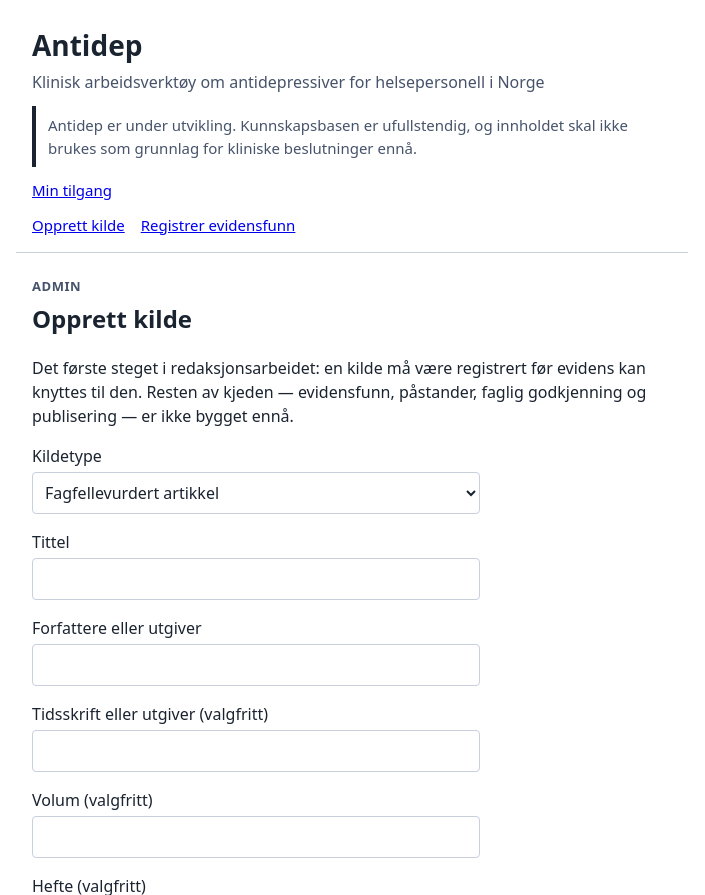
Test: Opprett kilde — publiseringsdato › bare år: brukeren skriver 2000, databasen får 2000-01-01
Type "Testkilde fra skjema" into the field labelled "Tittel". click: (256, 579)
box: [32,558,480,600]
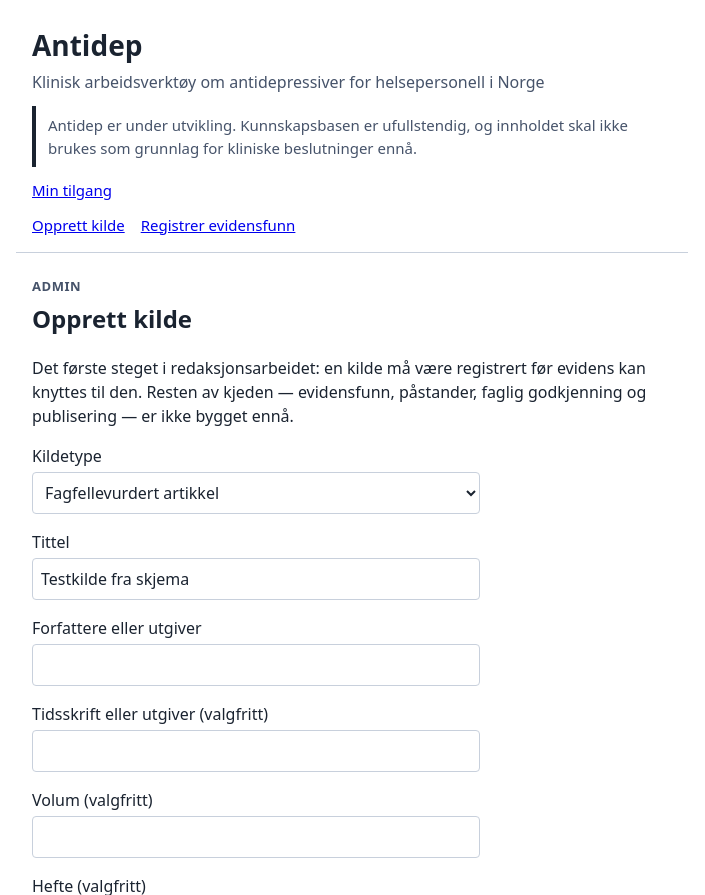
Type "Testforfatter" into the field labelled "Forfattere eller utgiver". click: (256, 665)
box: [32,644,480,686]
(page scrolled)
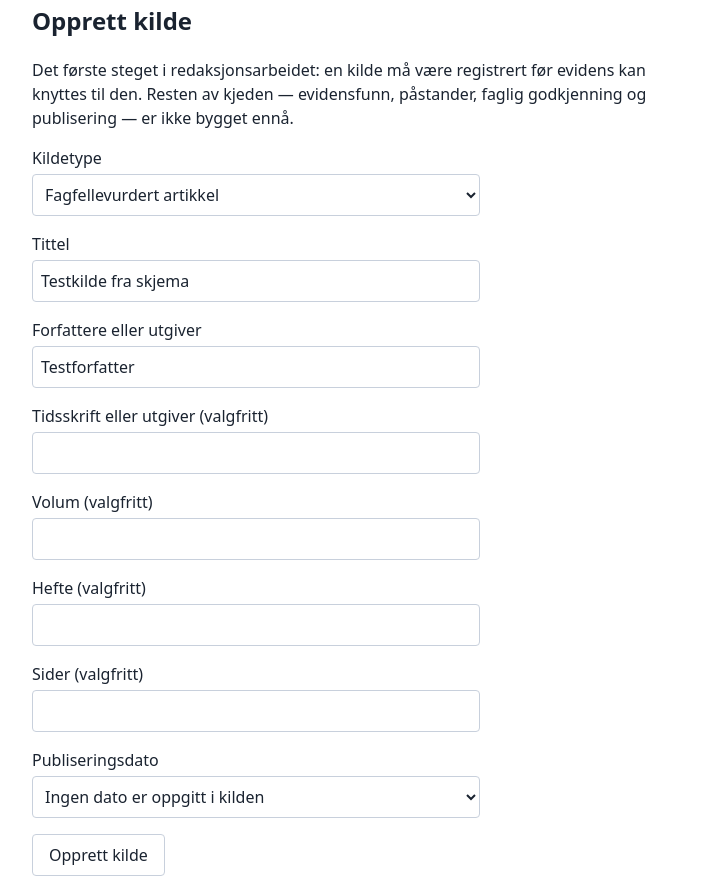
Select "Bare året er kjent" in the dropdown labelled "Publiseringsdato". click: (256, 797)
box: [32,776,480,818]
(page scrolled)
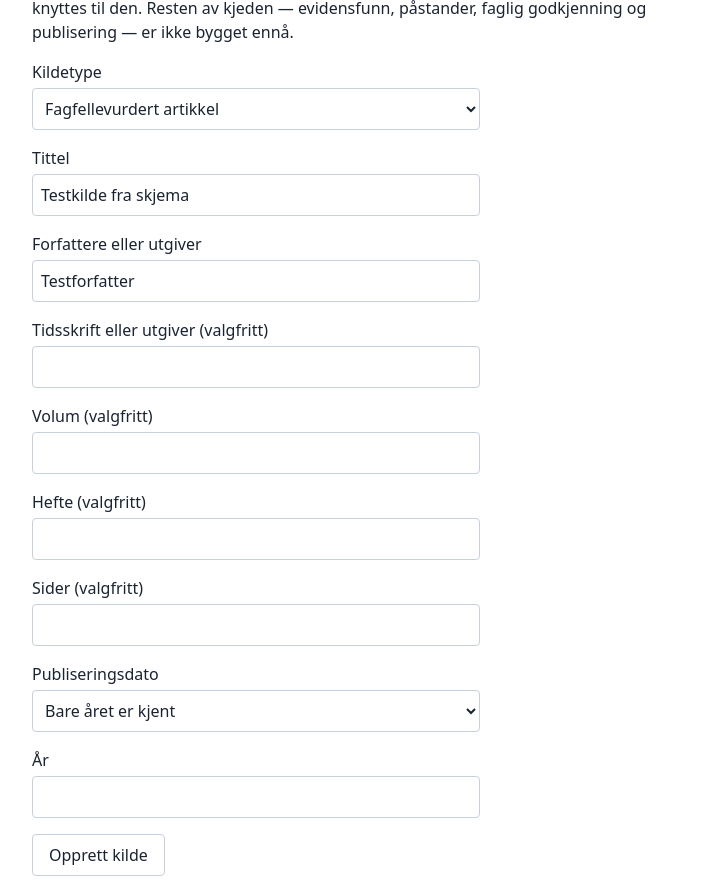
Type "2000" into the number field labelled "År". click: (256, 797)
box: [32,776,480,818]
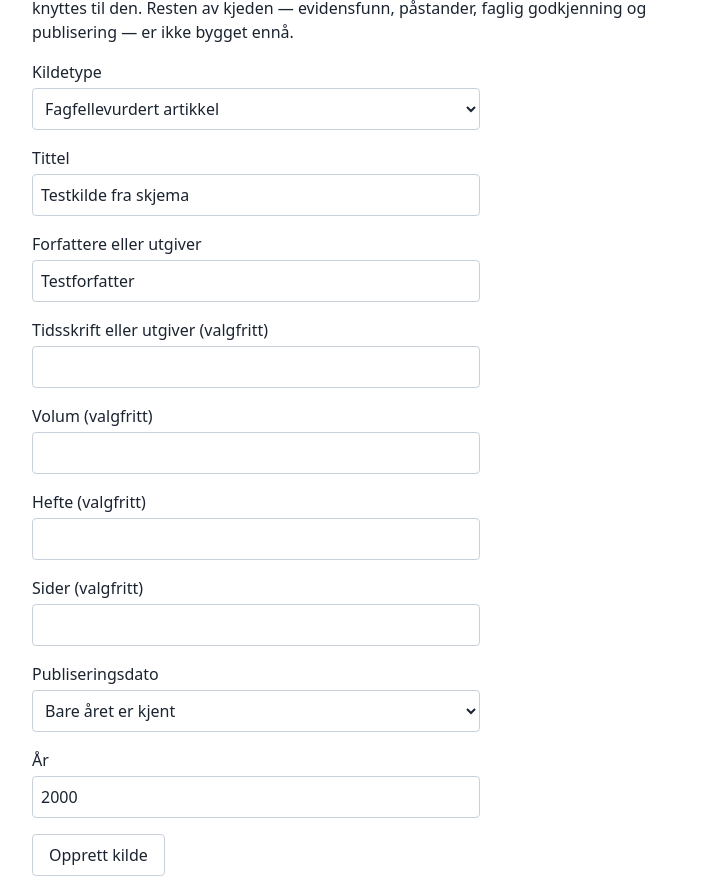
Click the button "Opprett kilde". click: (98, 855)
box: [32,834,165,876]
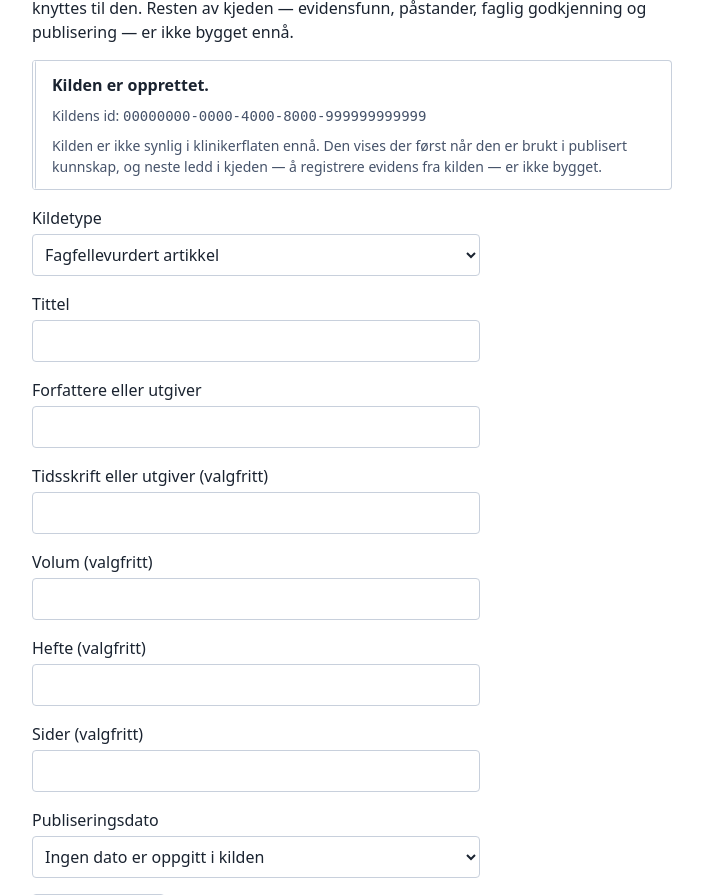
Expected: the text "Kilden er opprettet." is shown, [52,74,209,96]
